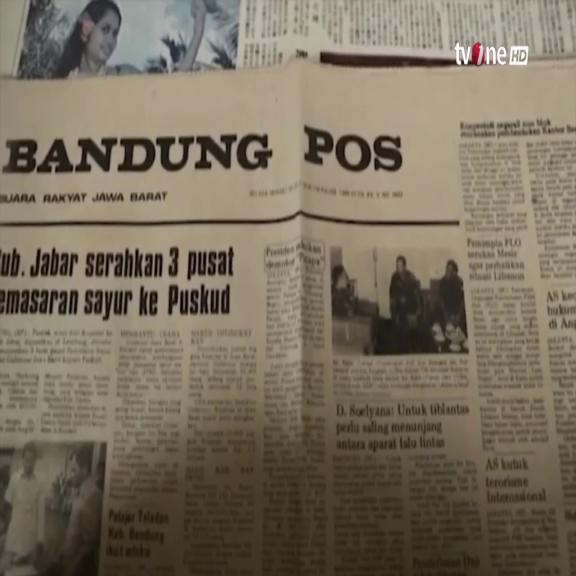Kertas: (8, 54, 570, 227), (5, 232, 285, 572), (323, 244, 483, 568), (458, 127, 574, 393), (337, 0, 459, 54)
